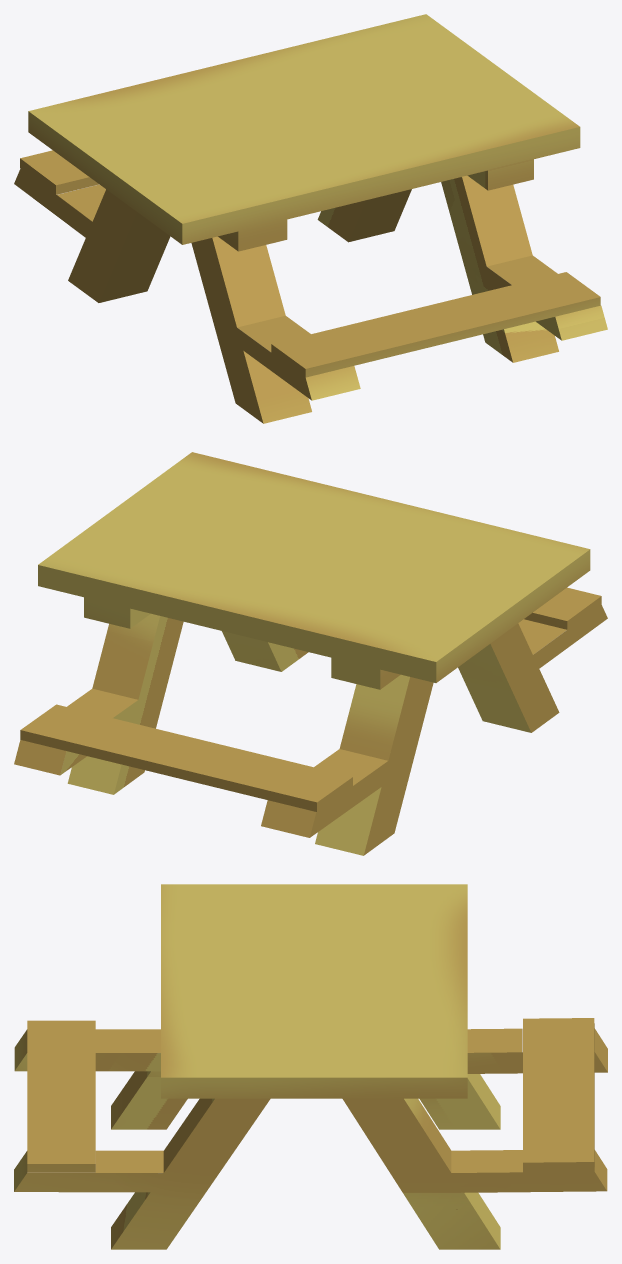
The model's file is MesaPicnic_prefab.fbx.
3 views of the same model, one above another, from view 1: azimuth 30°, elevation 25°; view 2: azimuth 150°, elevation 25°; view 3: azimuth 270°, elevation 25° (orthographic).
Visible parts, largest first — view 1: Cube; view 2: Cube; view 3: Cube.
Boxes of the visible parts, left/top/right/bottom form: Cube: left=14, top=14, right=607, bottom=423; Cube: left=14, top=452, right=607, bottom=855; Cube: left=14, top=884, right=607, bottom=1249.
Bounding box in the file's own units: 472 × 221 × 613.
Materials: 1 (1 with a texture image).
